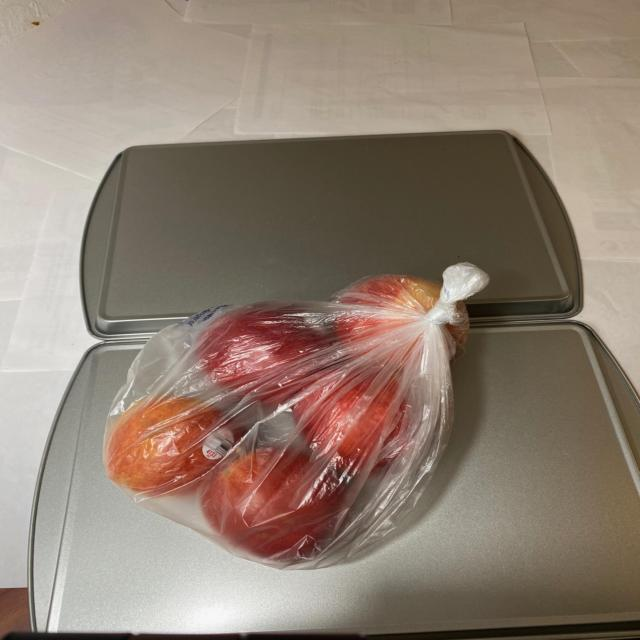apple: (94, 274, 469, 561)
